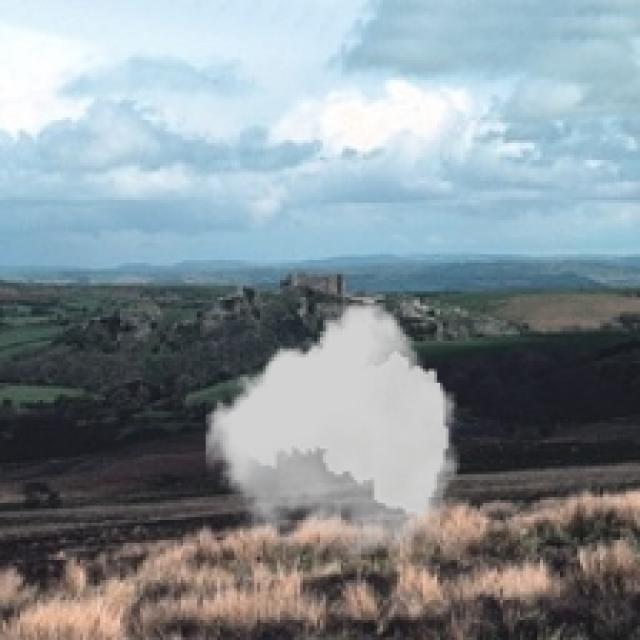smoke: (206, 303, 460, 554)
